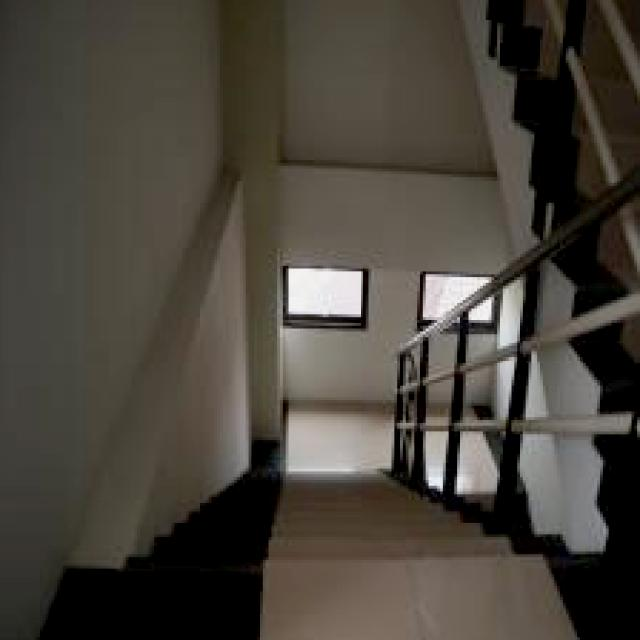downstair: (244, 464, 435, 640)
